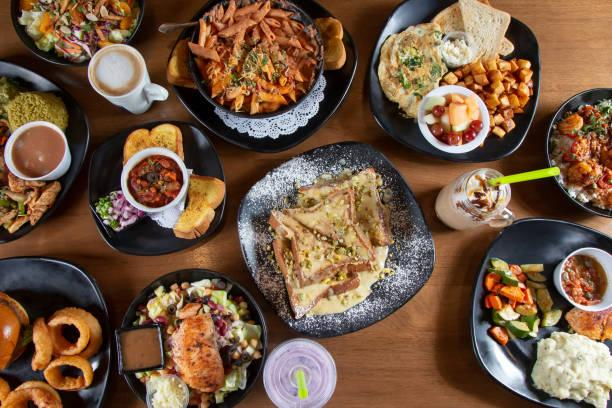Braised Crucian Carp: (236, 139, 428, 337), (170, 0, 348, 155), (368, 0, 536, 164), (469, 218, 610, 405), (117, 269, 265, 406), (87, 120, 222, 256)
